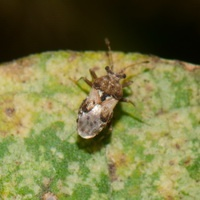insect: (76, 38, 139, 138)
